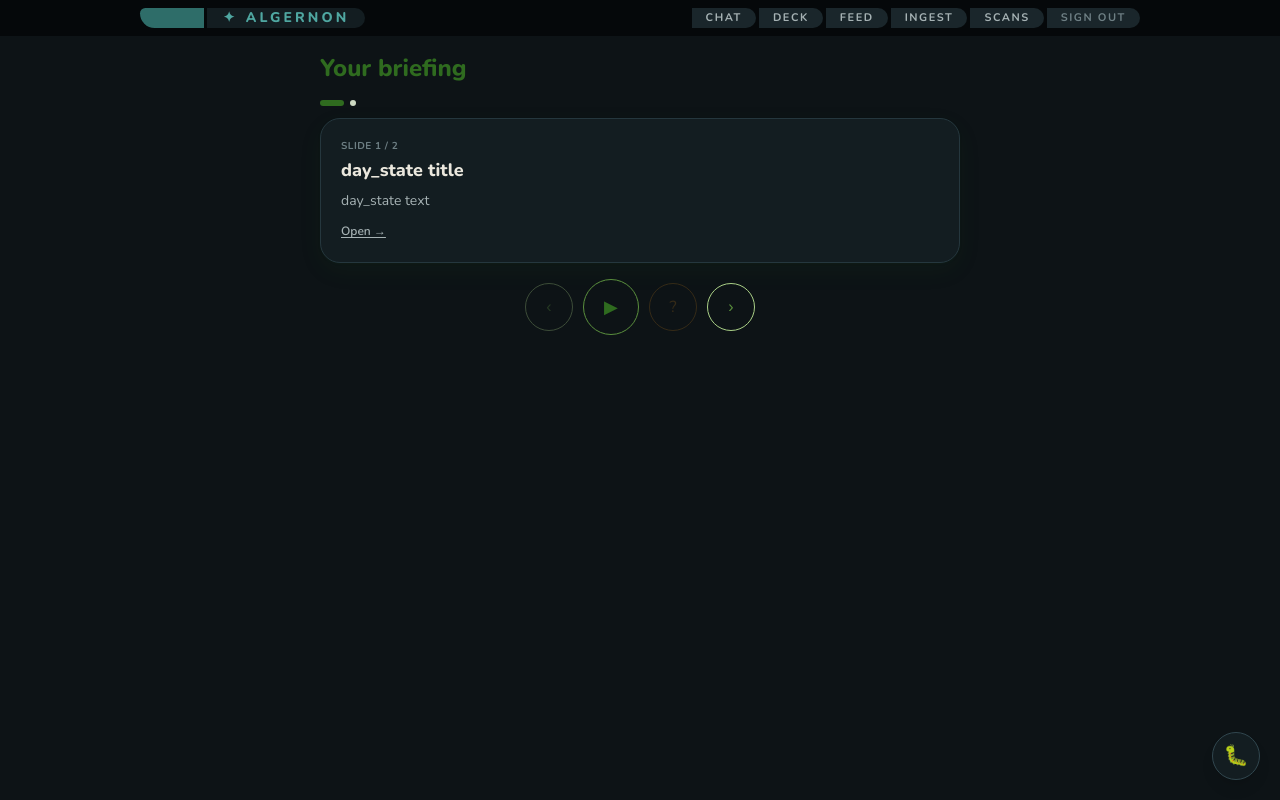
PlayerPage — controls + first-class interruption (C3c ask-wiring) › play → pause; ask opens the first-class ask surface with a live keyboard; resume returns to playing
Expected: the element with test id "player" is shown, [320, 100, 960, 335]
Step 1. Click the button with test id "player-play" → coordinates (611, 307), box [583, 279, 639, 335]
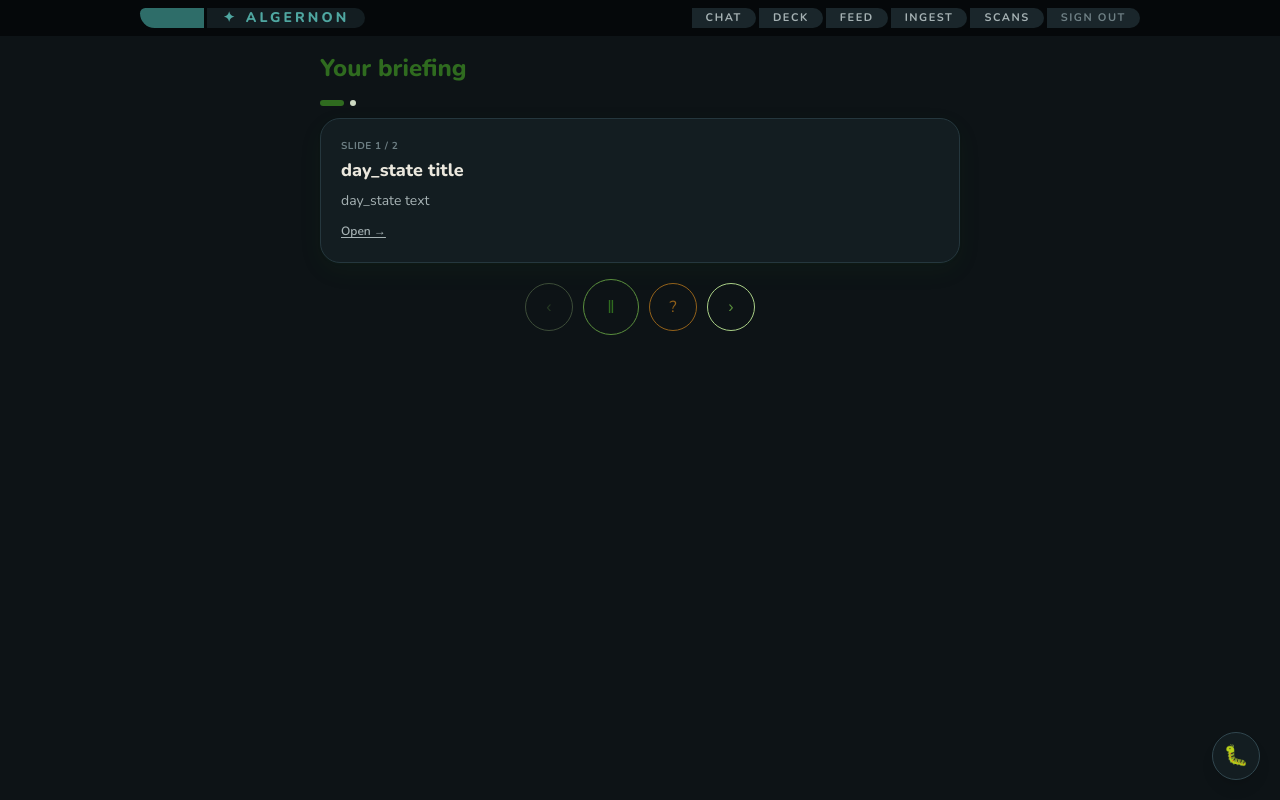
Result: the button with test id "player-pause" is shown at [583, 279, 639, 335]
Step 2. Click the button with test id "player-ask-open" → coordinates (673, 307), box [649, 283, 697, 331]
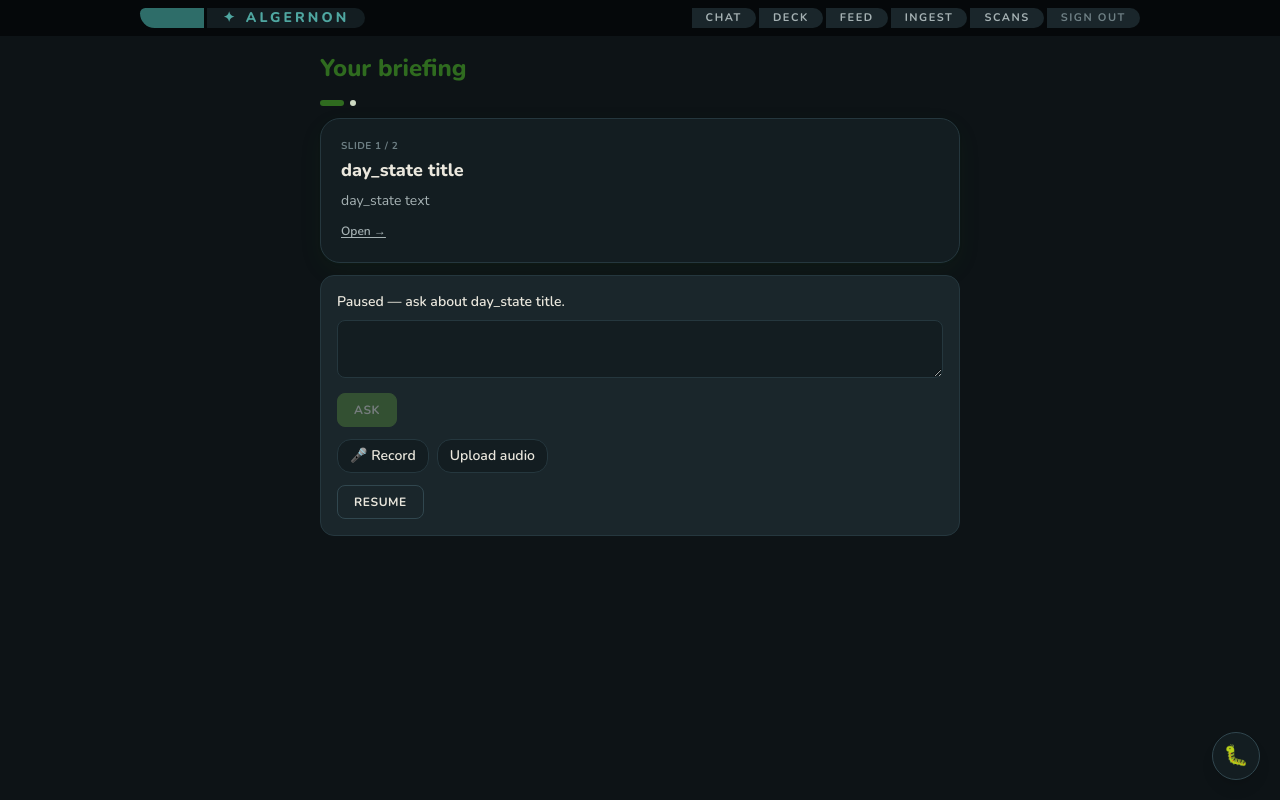
Result: the element with test id "player-ask" is shown at [320, 275, 960, 536]
Result: the text box with test id "player-ask-input" is shown at [337, 320, 943, 378]
Step 3. Click the button with test id "player-resume" → coordinates (380, 502), box [337, 485, 424, 519]
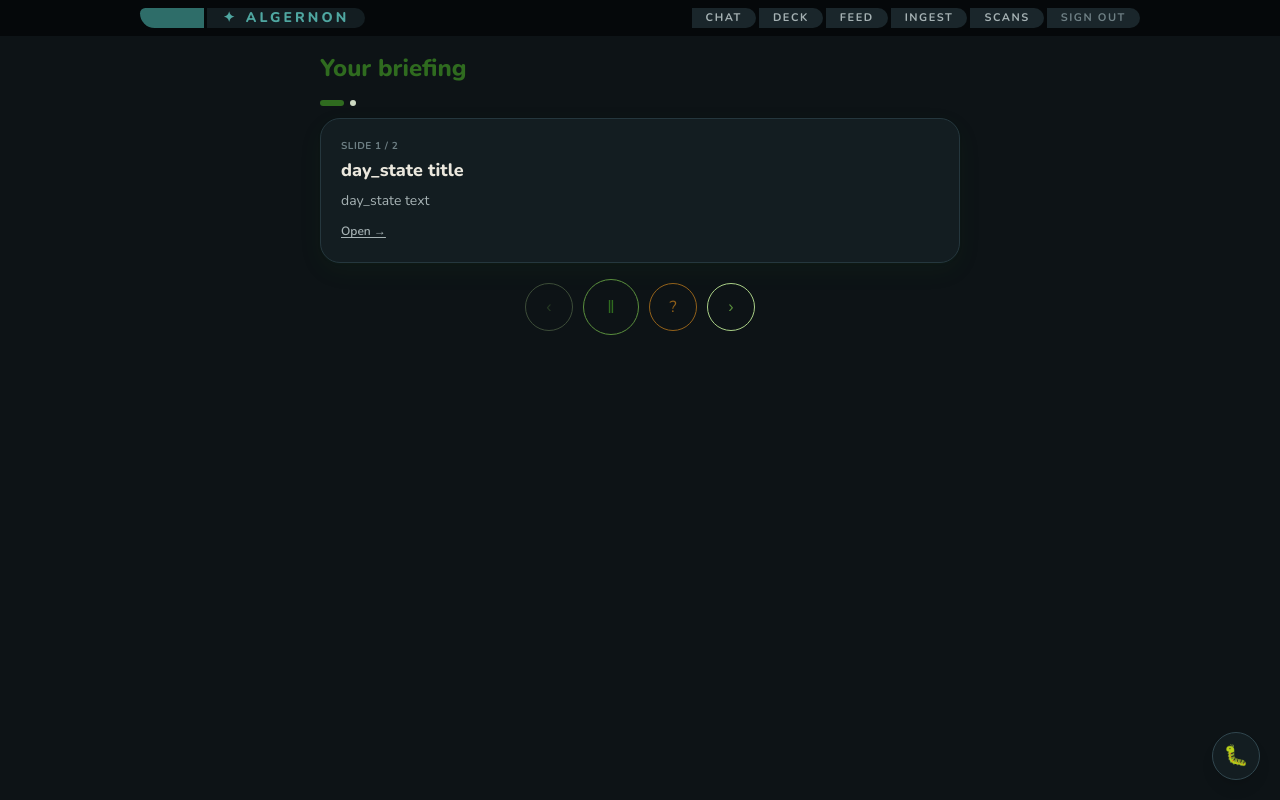
Result: the element with test id "player-ask" is gone
Result: the button with test id "player-pause" is shown at [583, 279, 639, 335]
